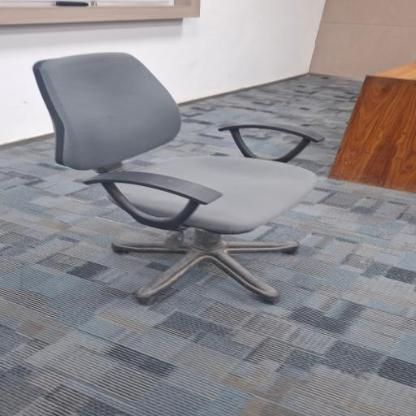chair: (25, 39, 326, 313)
